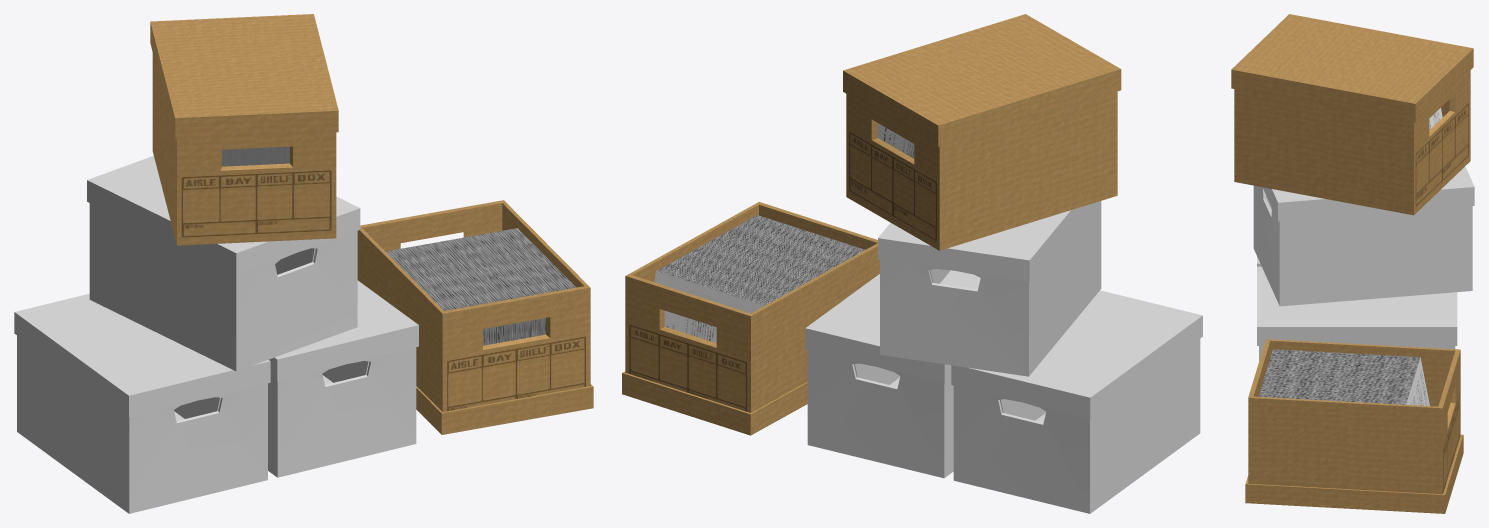
The model's file is paper_box.fbx.
3 views of the same model, side by side, from view 1: azimuth 30°, elevation 25°; view 2: azimuth 150°, elevation 25°; view 3: azimuth 270°, elevation 25° (orthographic). The views are drawn at different scales.
Parts seen in each view (by area): view 1: Cube.008, Cube.029, Cube.023, Cube.031, Cube.027; view 2: Cube.008, Cube.023, Cube.029, Cube.031, Cube.027; view 3: Cube.008, Cube.023, Cube.031, Cube.027.
Part boxes in pixels (x1,y1,x2,y2): Cube.008: [150, 14, 338, 245]; Cube.029: [14, 293, 270, 513]; Cube.023: [357, 200, 593, 434]; Cube.031: [87, 155, 360, 371]; Cube.027: [268, 280, 418, 477]; Cube.008: [843, 14, 1121, 250]; Cube.023: [622, 202, 879, 435]; Cube.029: [951, 290, 1202, 513]; Cube.031: [878, 201, 1101, 376]; Cube.027: [805, 274, 953, 478]; Cube.008: [1231, 14, 1473, 215]; Cube.023: [1245, 339, 1463, 513]; Cube.031: [1253, 166, 1474, 306]; Cube.027: [1257, 266, 1457, 361].
Size of the model in its own units: 87.03 by 63.24 by 43.42.
